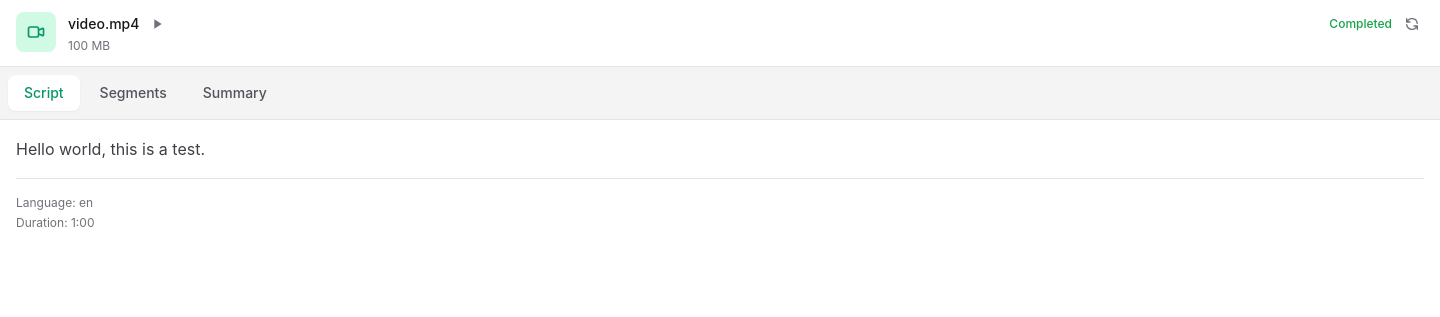
Test case: Inspector › transcription display › switches to Segments tab
Click the tab "Segments".
click(133, 93)  # box x1=84 y1=75 x2=183 y2=111
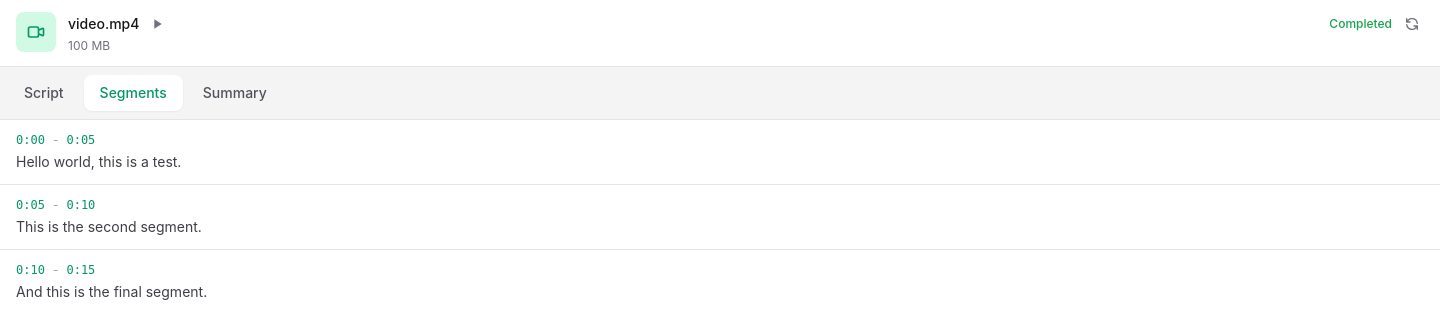
Expected: the text "0:00" is shown, x1=16 y1=132 x2=45 y2=148
